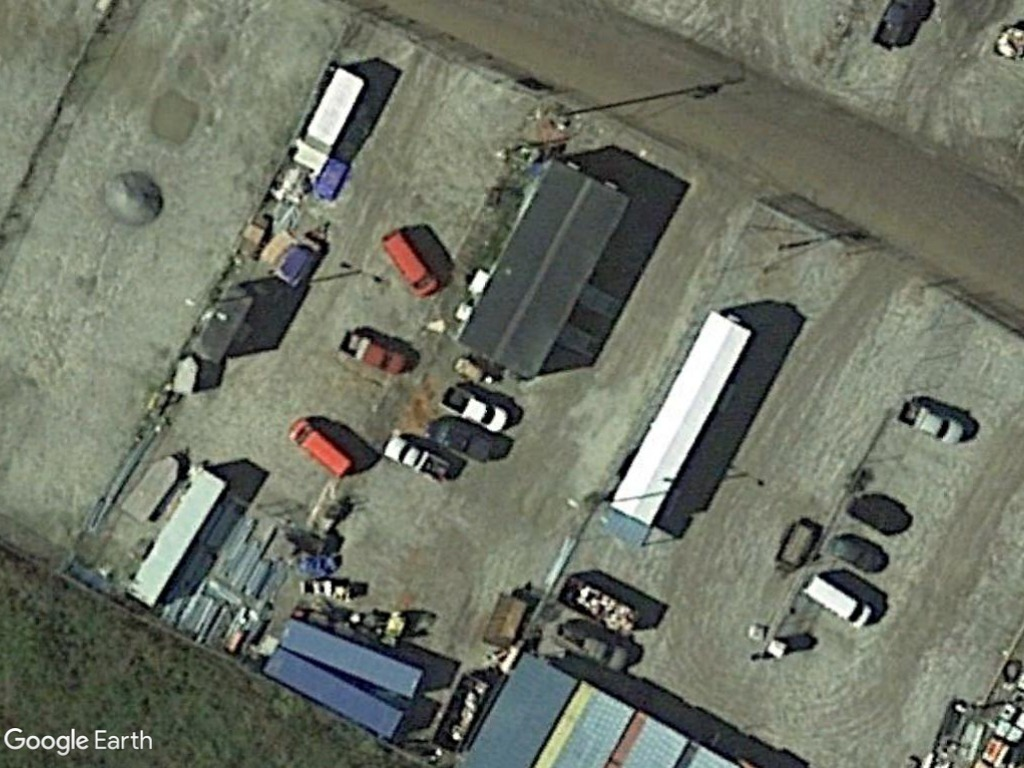other: (380, 429, 454, 485), (435, 384, 509, 438)
van: (794, 569, 875, 634), (377, 231, 442, 298), (287, 415, 354, 479)
